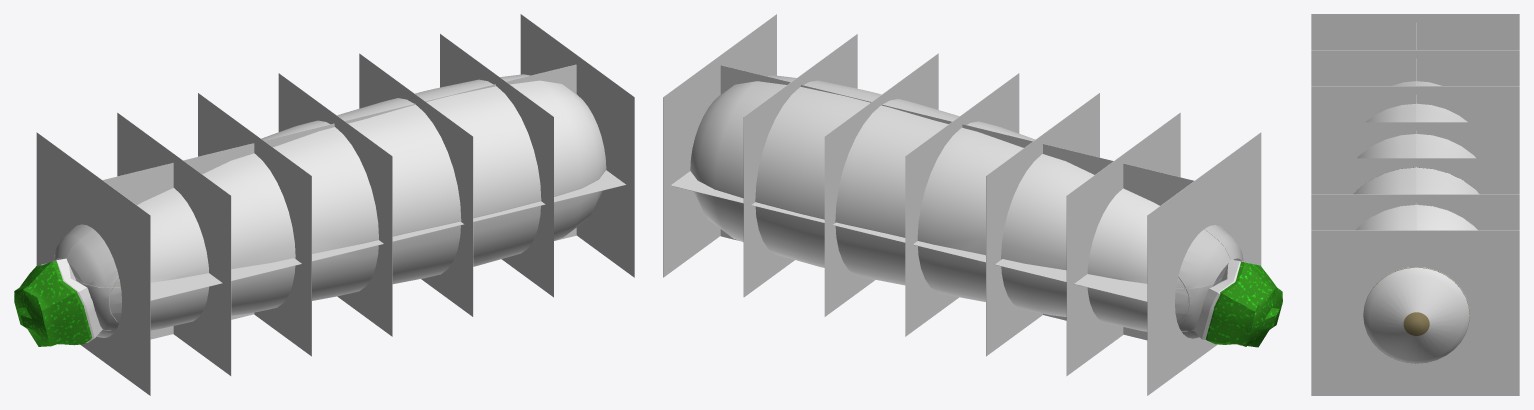
File: ZuchiniFertig2 1.fbx
3 views of the same model, side by side, from view 1: azimuth 30°, elevation 25°; view 2: azimuth 150°, elevation 25°; view 3: azimuth 270°, elevation 25° (orthographic). The views are drawn at different scales.
Parts seen in each view (by area): view 1: R_Schnitt1, R_Schnitt7, R_Schnitt2, Stumpf, Cylinder.020, Cylinder.017, R_Schnitt3, Cylinder.014, R_Schnitt4, R_Schnitt6, R_Schnitt5, Cylinder.011 (+17 smaller); view 2: R_Schnitt1, R_Schnitt7, R_Schnitt2, Stumpf, Cylinder.007, Cylinder.006, Cylinder.013, R_Schnitt3, R_Schnitt4, Cylinder.010, R_Schnitt6, R_Schnitt5 (+17 smaller); view 3: R_Schnitt7, Stumpf.002, R_Schnitt1, R_Schnitt2, R_Schnitt3, R_Schnitt4, R_Schnitt6, R_Schnitt5, Cylinder.007, Cylinder.008, Cylinder.020, Cylinder.023 (+4 smaller).
Part boxes in pixels (x1,y1,x2,y2): R_Schnitt1: (36,132,150,395); R_Schnitt7: (520,14,634,277); R_Schnitt2: (117,112,231,375); Stumpf: (14,224,121,346); Cylinder.020: (426,86,541,218); Cylinder.017: (348,104,461,236); R_Schnitt3: (198,93,311,356); Cylinder.014: (273,127,378,253); R_Schnitt4: (278,73,392,336); R_Schnitt6: (440,33,553,297); R_Schnitt5: (359,53,473,316); Cylinder.011: (202,153,295,269); R_Schnitt1: (1147,132,1261,395); R_Schnitt7: (663,14,776,277); R_Schnitt2: (1066,112,1180,375); Stumpf: (1175,225,1282,347); Cylinder.007: (755,87,870,219); Cylinder.006: (835,105,948,237); Cylinder.013: (917,127,1023,255); R_Schnitt3: (986,93,1099,356); R_Schnitt4: (905,73,1019,336); Cylinder.010: (1001,154,1094,270); R_Schnitt6: (743,34,857,297); R_Schnitt5: (824,53,938,316); R_Schnitt7: (1311,230,1519,395); Stumpf.002: (1363,267,1469,363); R_Schnitt1: (1311,14,1519,49); R_Schnitt2: (1311,50,1519,85); R_Schnitt3: (1311,86,1519,122); R_Schnitt4: (1311,122,1519,158); R_Schnitt6: (1311,194,1519,230); R_Schnitt5: (1311,158,1519,194); Cylinder.007: (1416,167,1479,229); Cylinder.008: (1416,205,1477,315); Cylinder.020: (1354,167,1415,229); Cylinder.023: (1355,205,1415,315).
Size of the model in its own units: 439 by 130 by 149.
